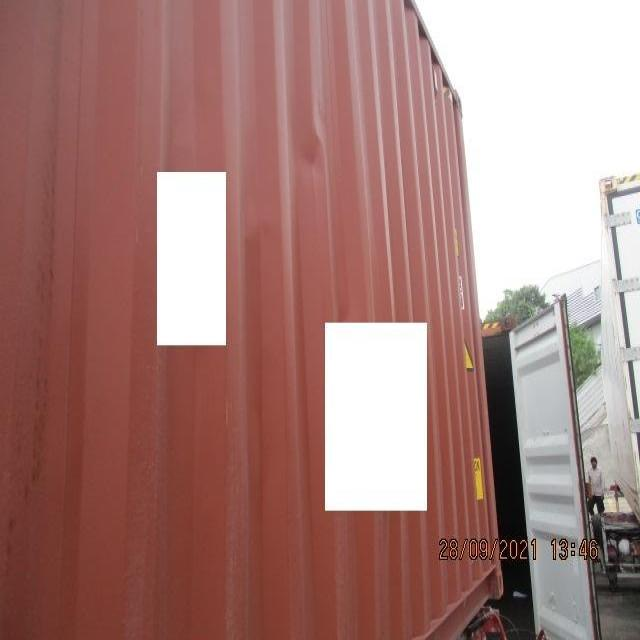dent: (274, 89, 367, 226)
